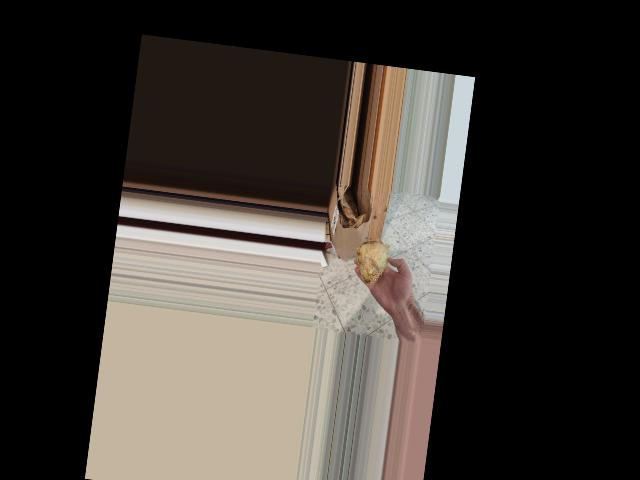onion: (350, 235, 397, 291)
